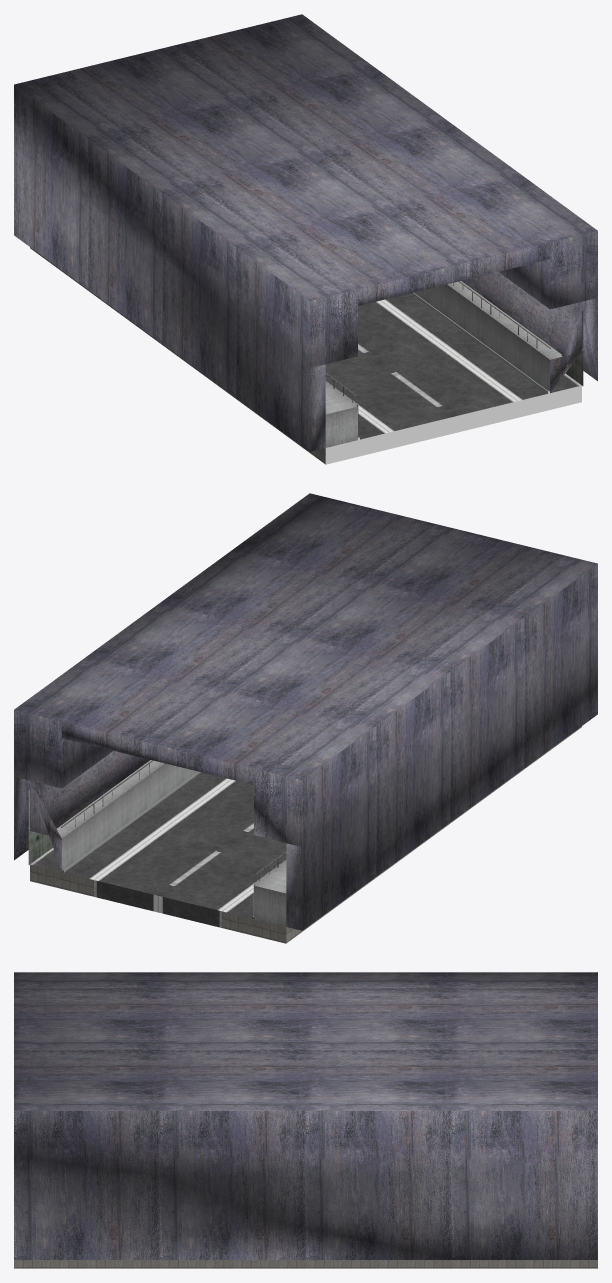
The model's file is SnglTunnelMiddle_3.fbx.
The picture shows the model from 3 angles, top to bottom: view 1: azimuth 30°, elevation 25°; view 2: azimuth 150°, elevation 25°; view 3: azimuth 270°, elevation 25°; orthographic projection.
Parts seen in each view (by area): view 1: top150, materialA150, sidewalks150, materialB150, materialG0, materialC150; view 2: top150, materialA150, sidewalks150, materialC150, materialG0; view 3: top150, materialC150.
Boxes of the visible parts, x1,y1,x2,y2 form: top150: (14,14,597,451); materialA150: (325,293,581,439); sidewalks150: (325,281,582,436); materialB150: (325,385,581,464); materialG0: (325,355,562,447); materialC150: (30,247,325,464); top150: (14,493,597,930); materialA150: (30,772,286,927); sidewalks150: (29,760,286,915); materialC150: (30,726,581,943); materialG0: (61,837,286,926); top150: (14,972,597,1259); materialC150: (14,1260,597,1268).
Bounding box in the file's own units: 28.8 × 16 × 51.2.
